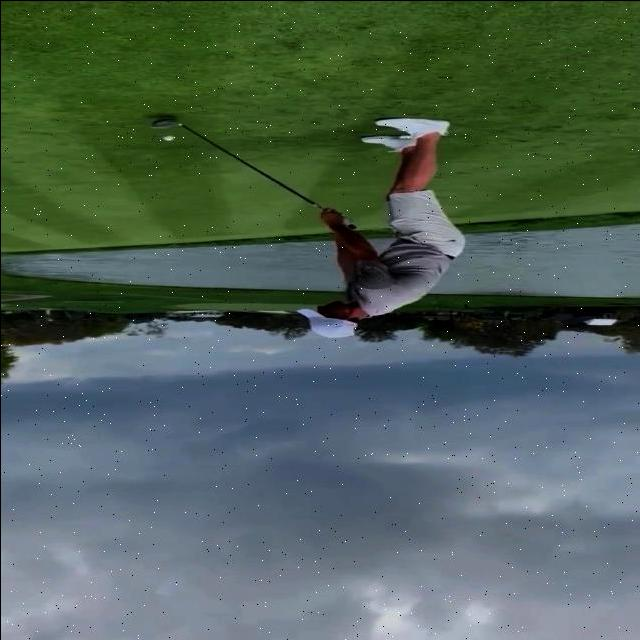golf ball: (160, 134, 173, 141)
golf club-handle: (146, 116, 357, 229)
golf club-head: (147, 117, 178, 127)
